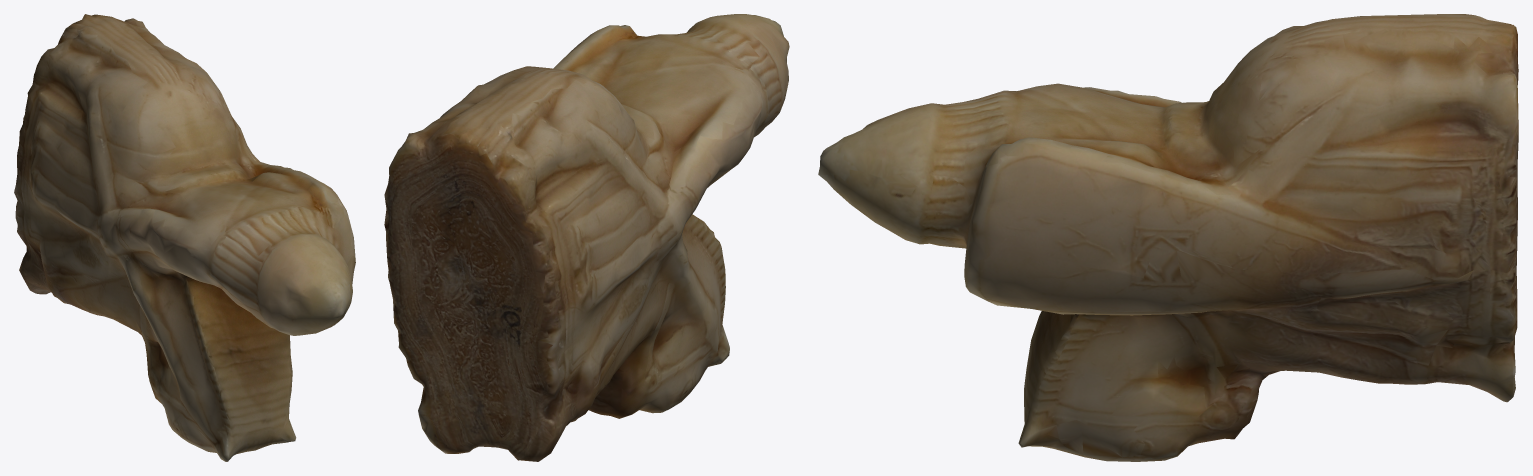
The model's file is kinte.glb.
3 views of the same model, side by side, from view 1: azimuth 30°, elevation 25°; view 2: azimuth 150°, elevation 25°; view 3: azimuth 270°, elevation 25° (orthographic). The views are drawn at different scales.
Visible parts, largest first — view 1: knight; view 2: knight; view 3: knight.
Part boxes in pixels (x1,y1,x2,y2): knight: (14, 14, 355, 461); knight: (384, 14, 789, 461); knight: (818, 14, 1518, 461).
Bounding box in the file's own units: 1.34 × 2.54 × 3.72.
Materials: 1 (1 with a texture image).
